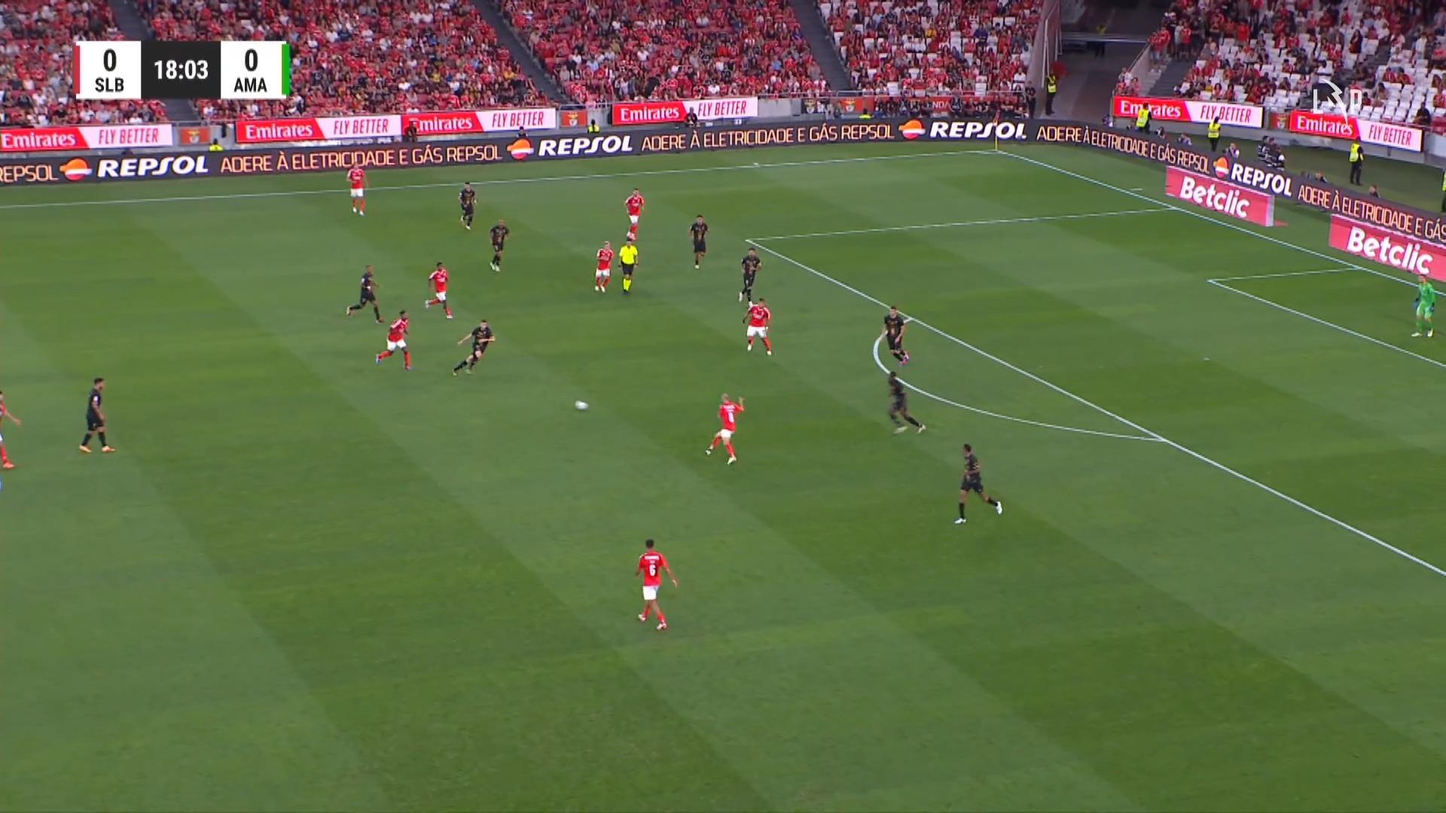ball: (574, 400, 588, 410)
goalkeeper: (1411, 273, 1436, 337)
player: (634, 537, 678, 631), (953, 442, 1002, 524), (703, 392, 745, 464), (78, 376, 114, 453), (886, 370, 926, 434), (451, 318, 495, 376), (345, 263, 385, 324), (374, 309, 413, 370), (742, 297, 773, 355), (0, 389, 22, 469), (424, 260, 453, 319), (883, 304, 910, 365), (737, 247, 762, 303), (346, 162, 368, 215), (688, 213, 708, 269), (624, 187, 645, 240), (593, 239, 614, 292), (488, 218, 508, 272), (457, 181, 477, 230)
referee: (617, 233, 639, 294)
